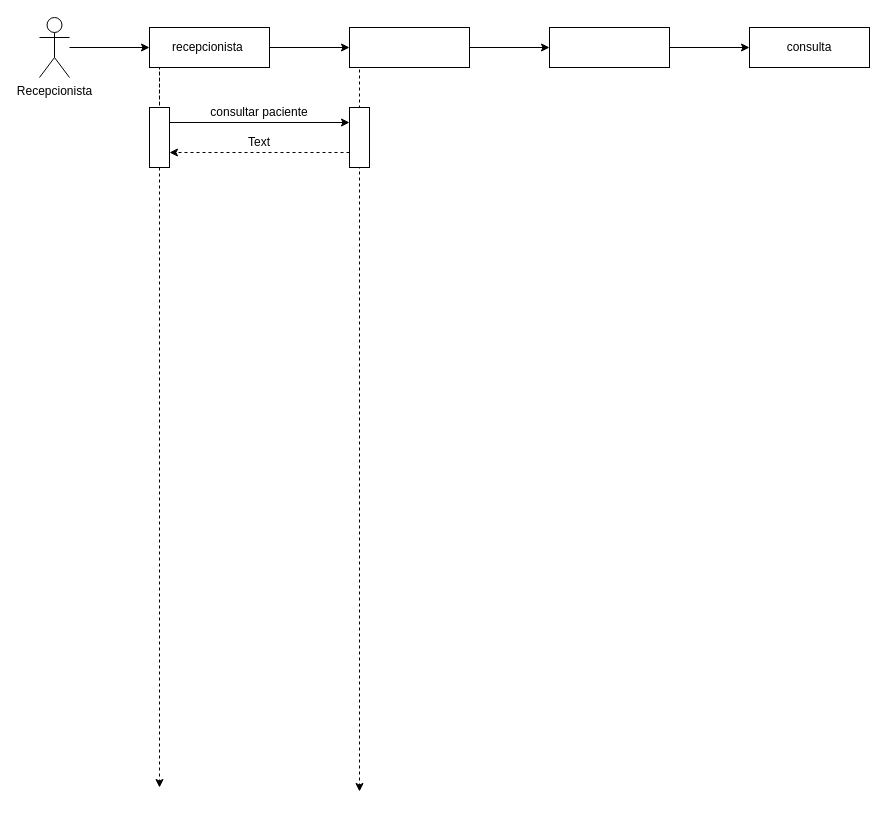
This 887x817 diagram has some shape labels left out. The shapes that lost their labels are listed below. From the top down, each one's centre as x and y in pixels, then its label:
(409,47): paciente
(609,47): agenda
